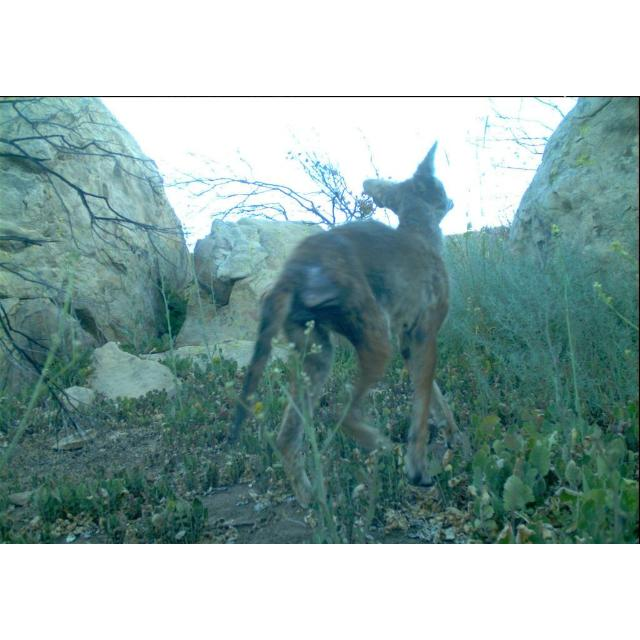animals: (218, 138, 454, 512)
